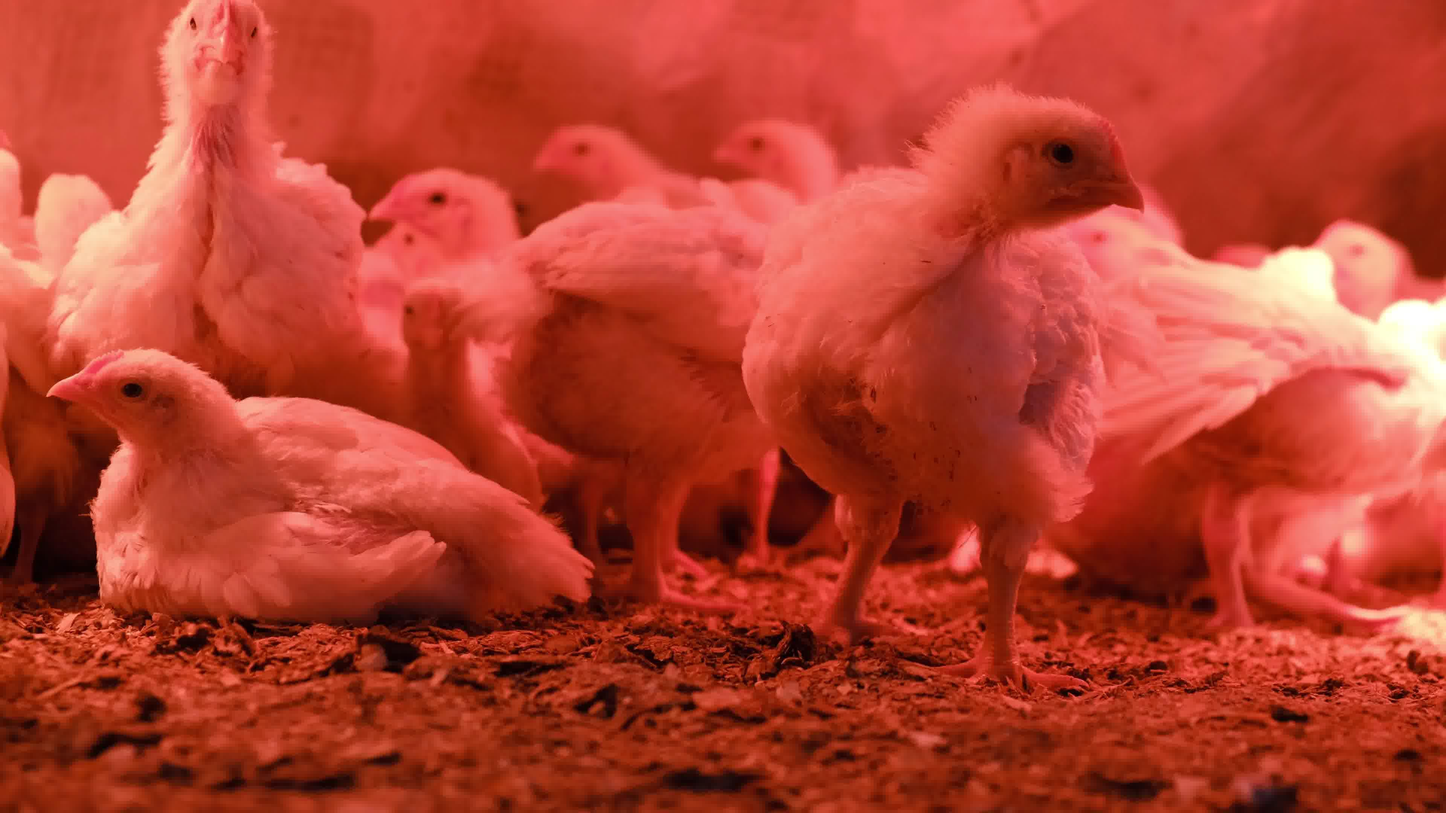AbNormal: (51, 341, 612, 615)
Normal: (699, 92, 1126, 694), (501, 113, 840, 629), (1109, 252, 1446, 632), (79, 0, 380, 382), (346, 263, 569, 489), (1280, 196, 1435, 311), (348, 152, 518, 252)
